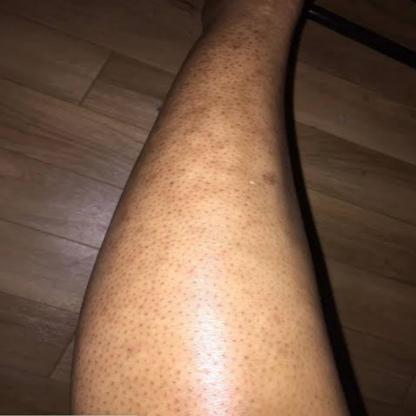Chicken Skin: (92, 243, 228, 414), (176, 88, 278, 278)
